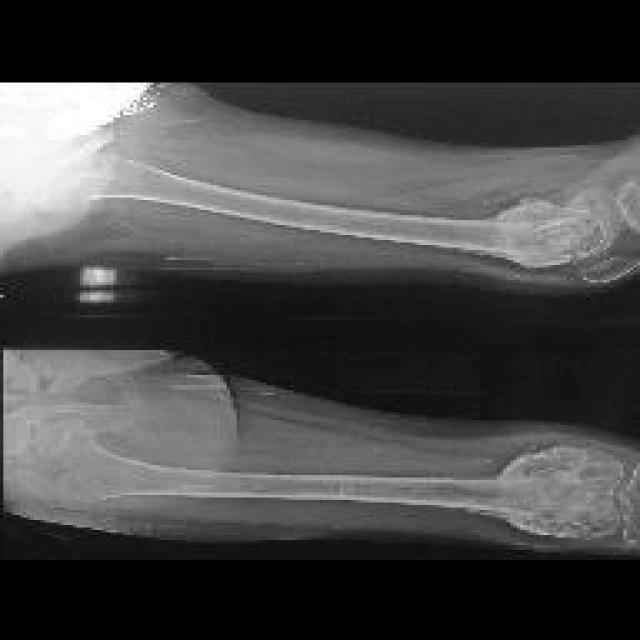bone-cancer: (497, 445, 627, 540), (482, 198, 605, 267)
